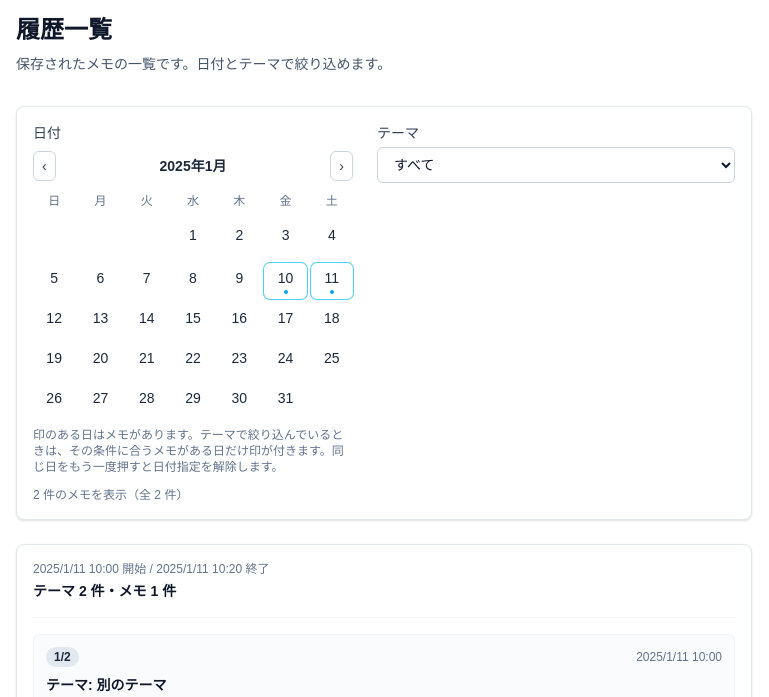
Test case: HistoryPage › shows no-results message when filters match nothing
Check: the heading "履歴一覧" is shown, box [16,16,112,43]
Select "今気になっていることは？" in the dropdown labelled "テーマ". click: (556, 165)
box: [377,147,735,183]
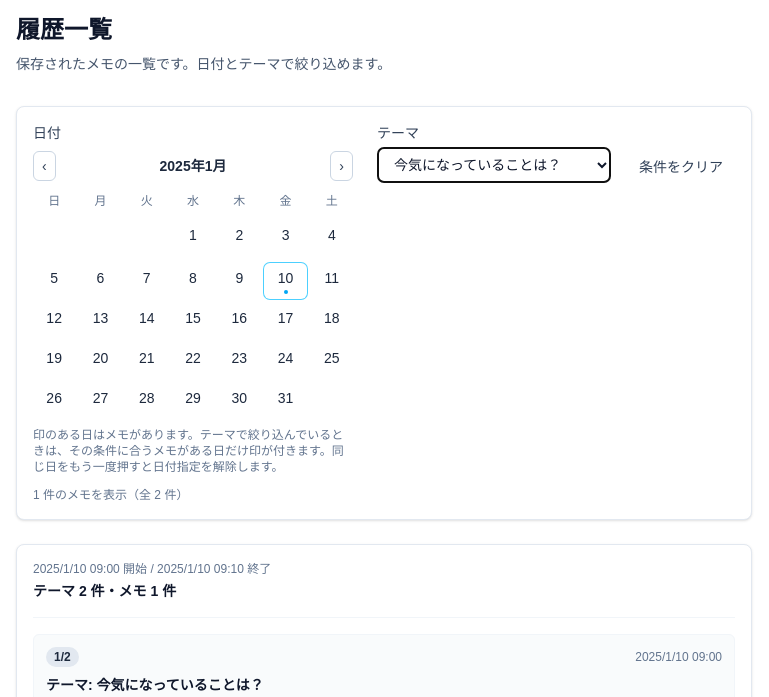
Click the button "11". click: (332, 281)
box: [311,263,353,299]
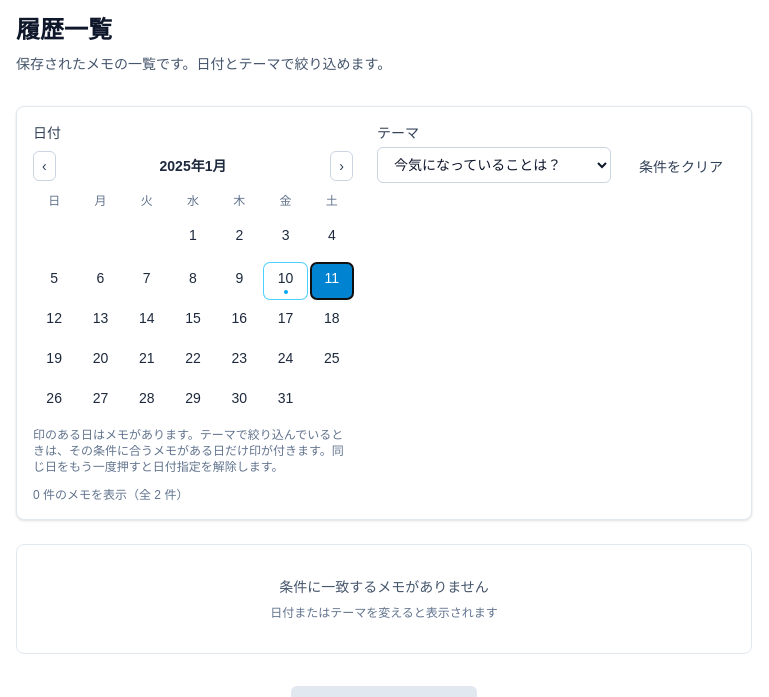
Check: the text "条件に一致するメモがありません" is shown, box [279,579,489,595]
